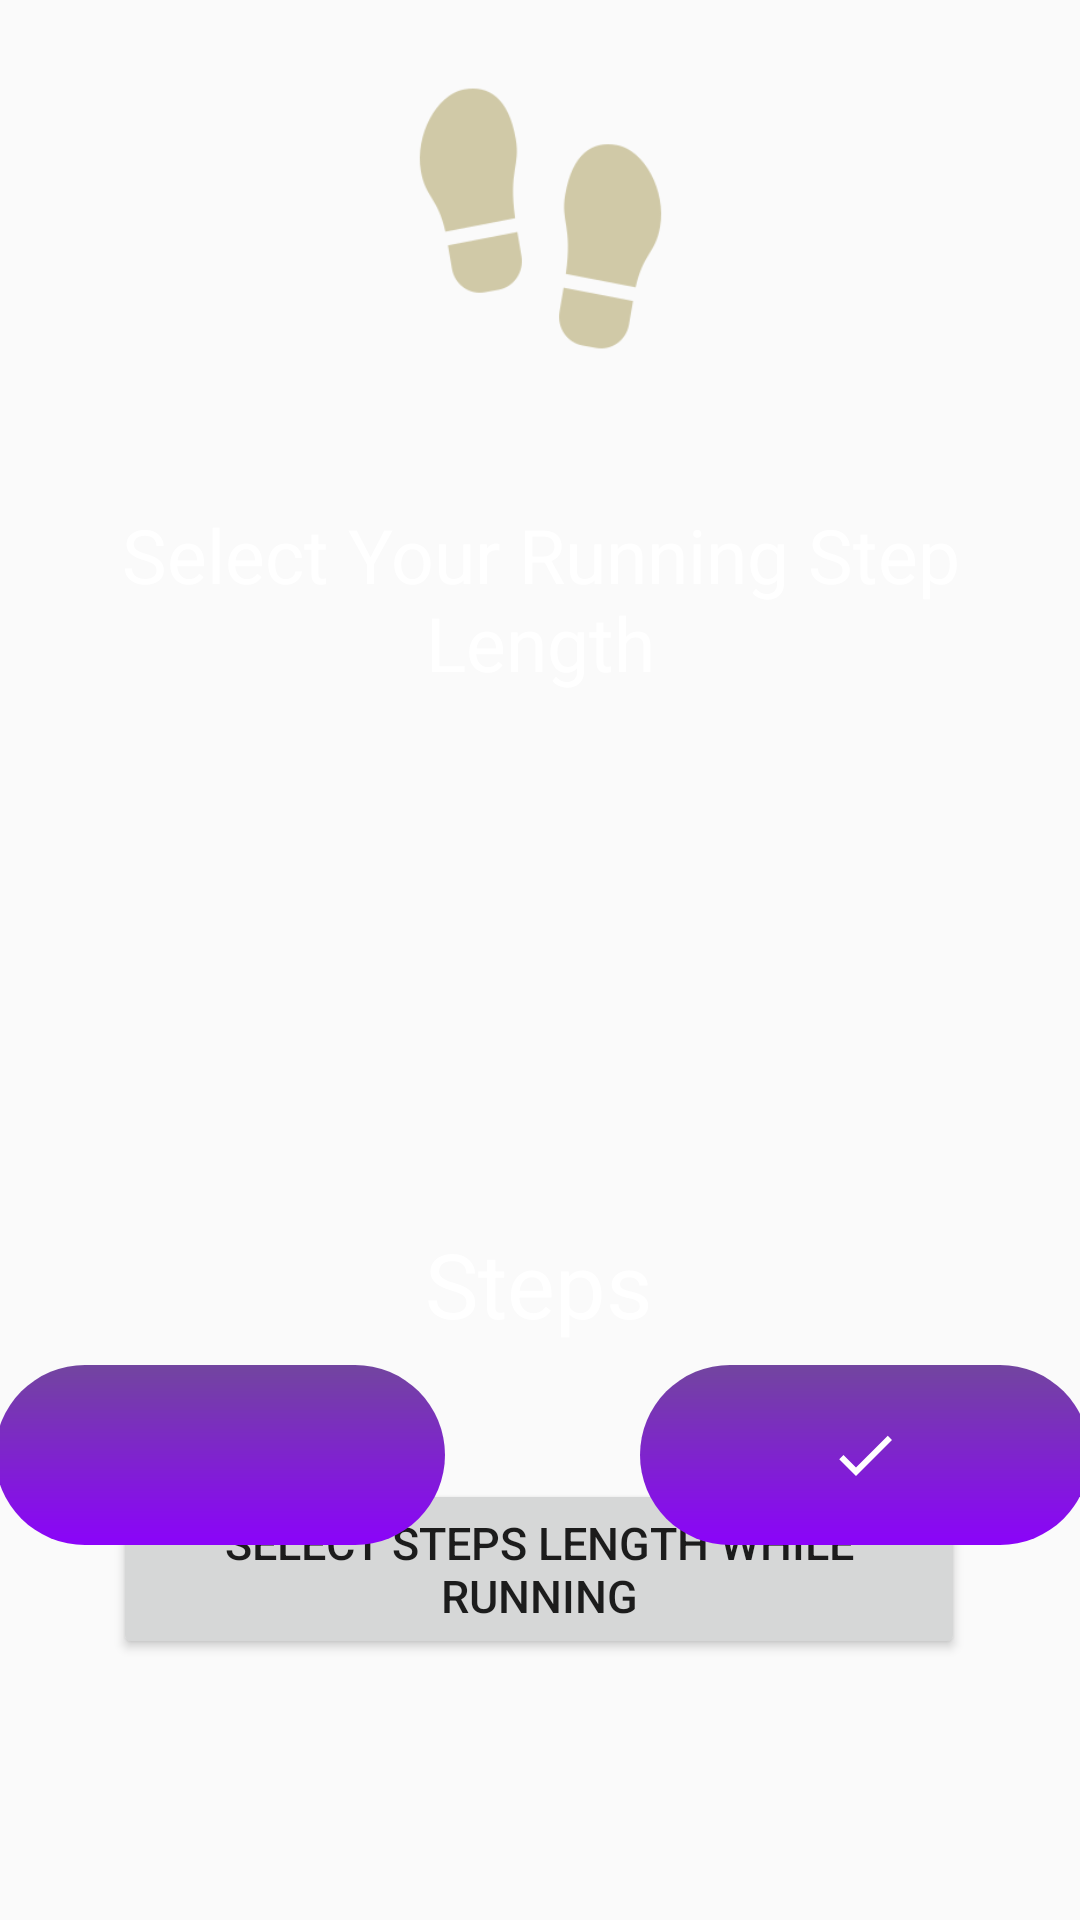

Icons on this 1080 × 1920 Android screen, each with the point to tap as point (x, y):
footstep: point (540, 218)
